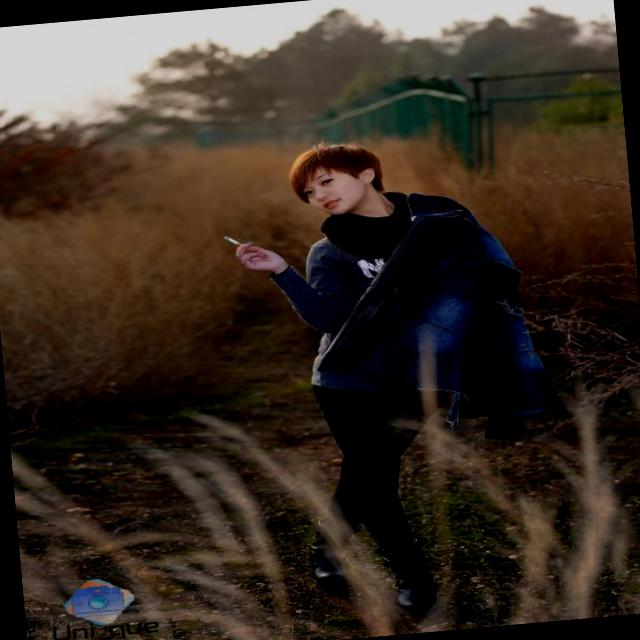cigarette: (220, 232, 239, 245)
